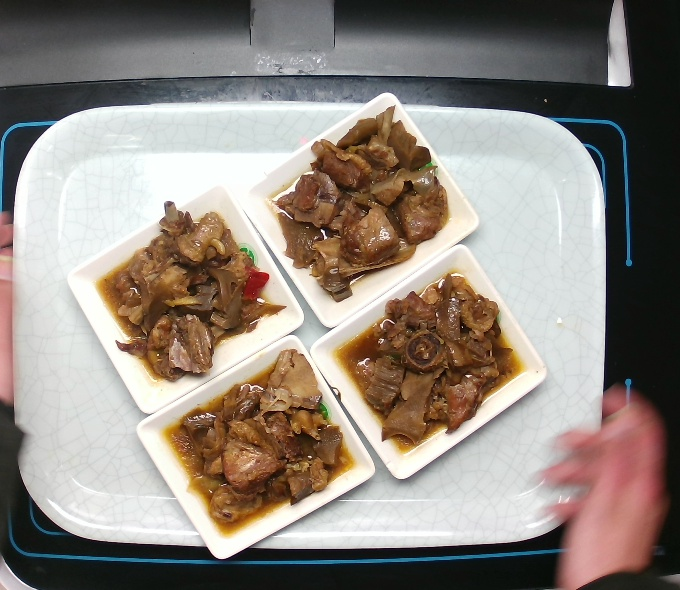wcq-YaRouSunGan: (270, 103, 452, 304), (99, 198, 287, 382), (171, 346, 355, 531), (340, 271, 526, 451)
